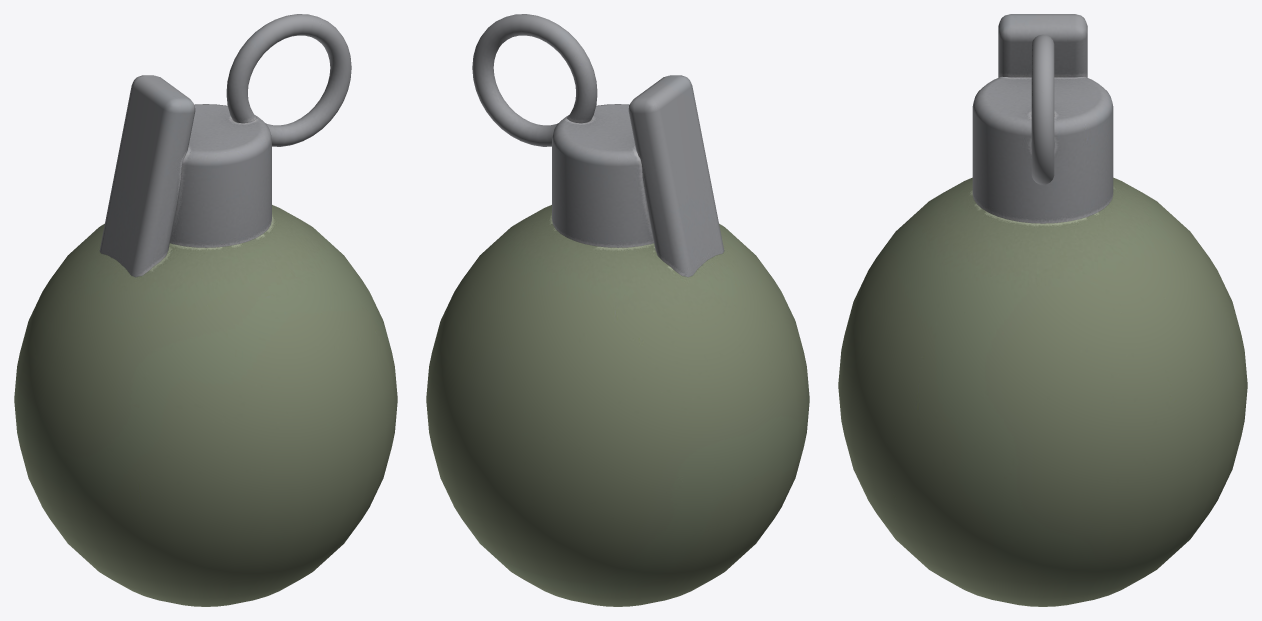
3 renders of one model, left to right at view 1: azimuth 30°, elevation 25°; view 2: azimuth 150°, elevation 25°; view 3: azimuth 270°, elevation 25°, orthographic. The views are drawn at different scales.
Parts seen in each view (by area): view 1: he; view 2: he; view 3: he.
Boxes of the visible parts, box(x1,y1,x2,y2) form: he: box(14, 14, 397, 606); he: box(426, 14, 809, 606); he: box(838, 14, 1247, 606).
Bounding box in the file's own units: 0.064 × 0.102 × 0.064.
